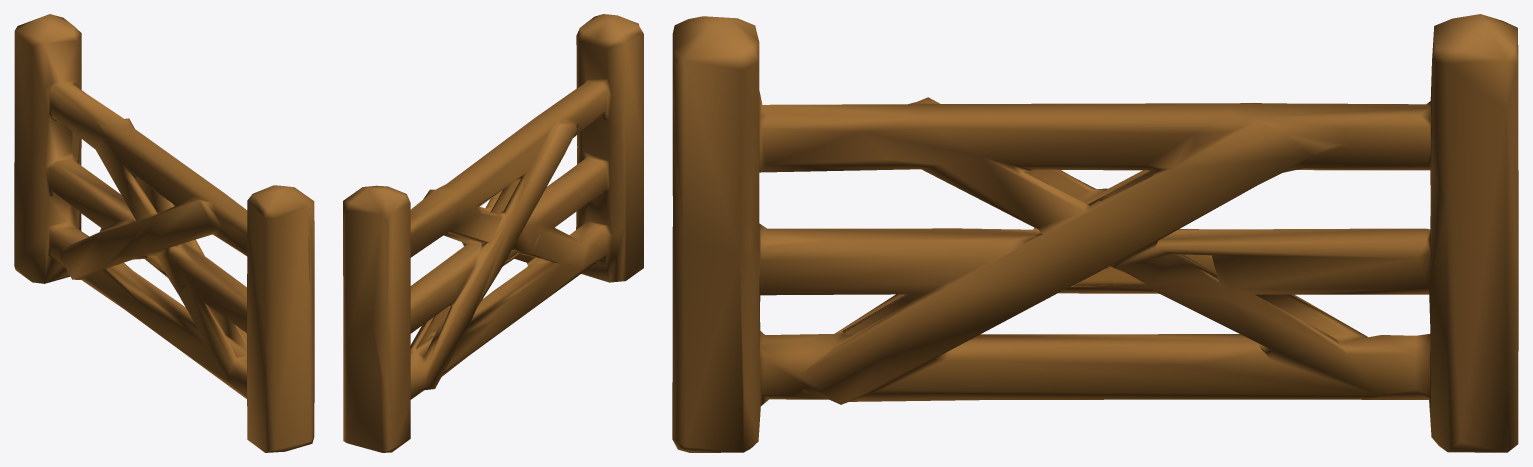
File: gen3d-wooden-gate-lod1.glb
3 views of the same model, side by side, from view 1: azimuth 30°, elevation 25°; view 2: azimuth 150°, elevation 25°; view 3: azimuth 270°, elevation 25° (orthographic). The views are drawn at different scales.
Parts seen in each view (by area): view 1: part_0; view 2: part_0; view 3: part_0.
Boxes of the visible parts, bbox=[...] form: part_0: bbox=[14, 14, 314, 452]; part_0: bbox=[343, 14, 643, 452]; part_0: bbox=[672, 14, 1518, 452].
Bounding box in the file's own units: 0.2064 × 0.999 × 1.85.
